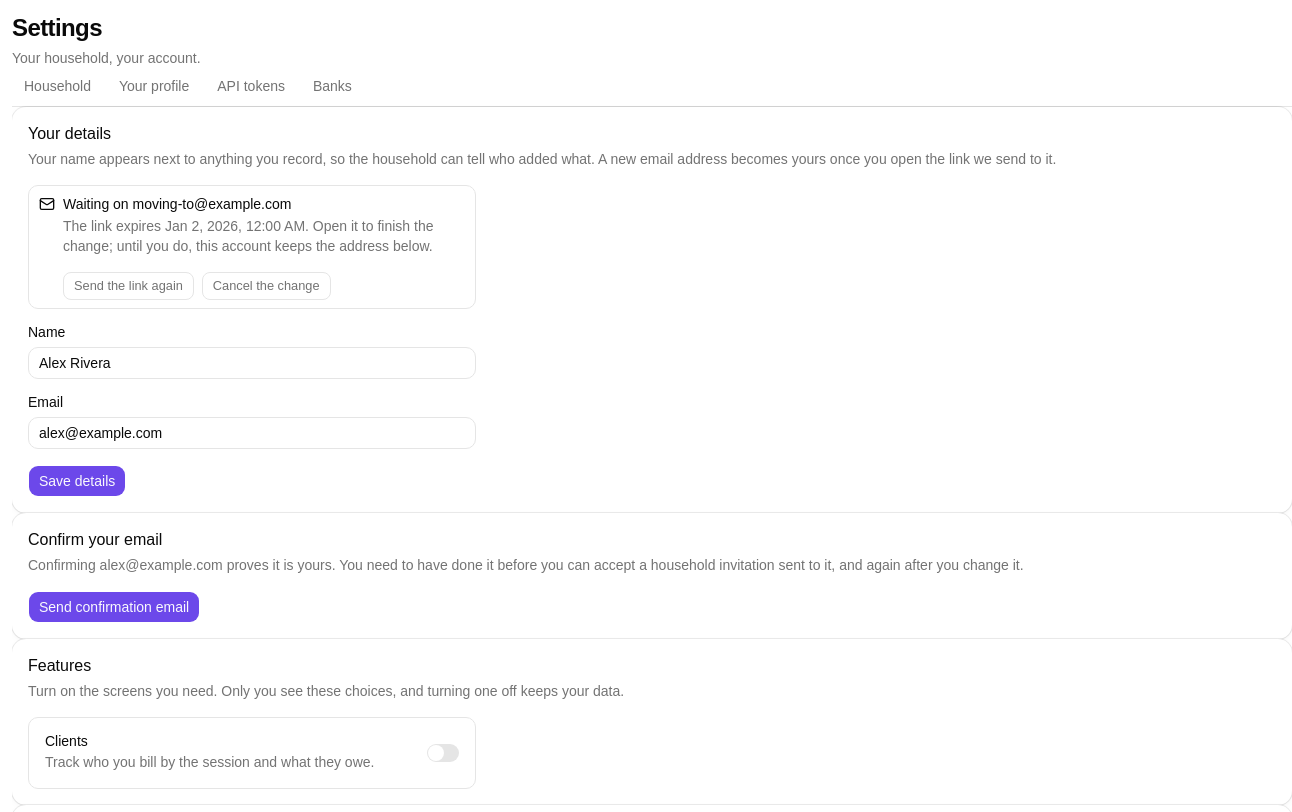
Scenario: a pending change of address › treats a change that has gone as nothing left to send
What coordinates should you click on to do the following:
click the button "Send the link again"
I would click on:
 (128, 286)
Its box is x1=63 y1=272 x2=194 y2=300.
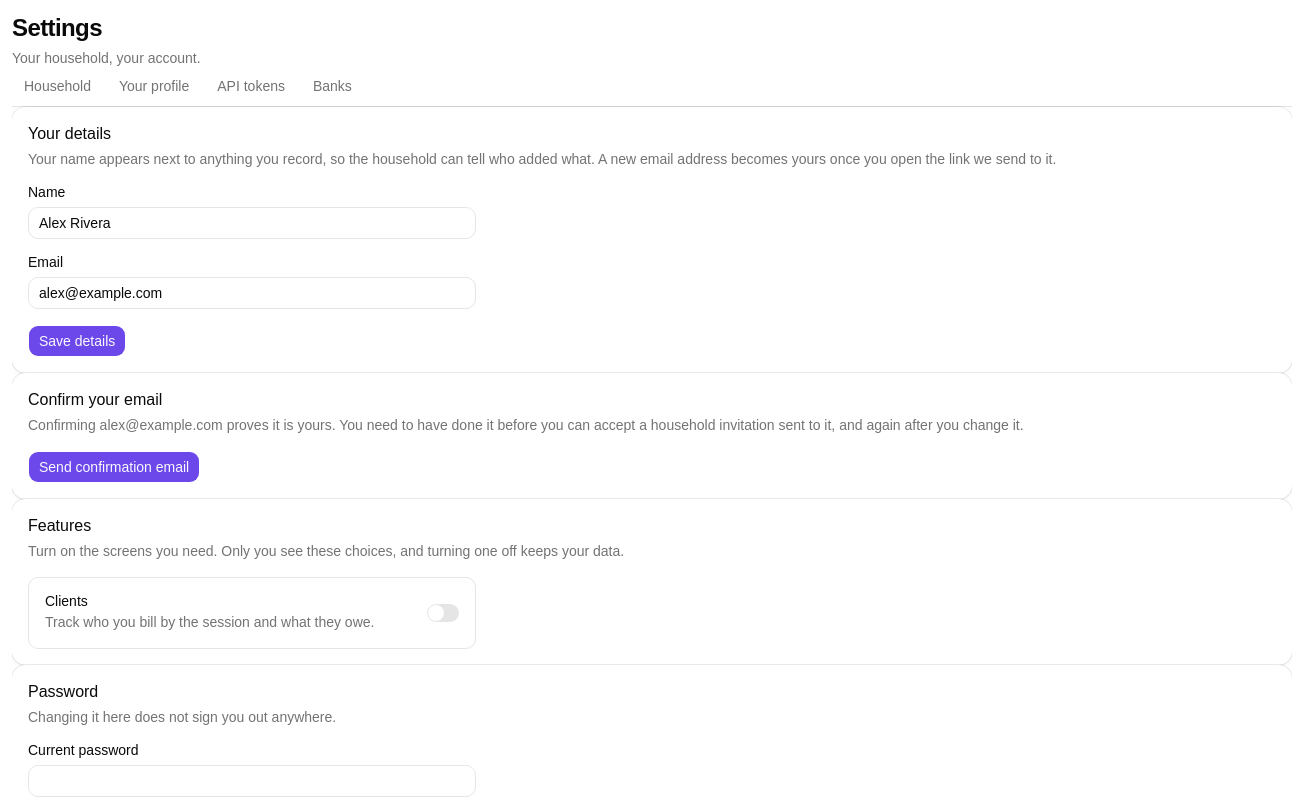
Now the message is gone
